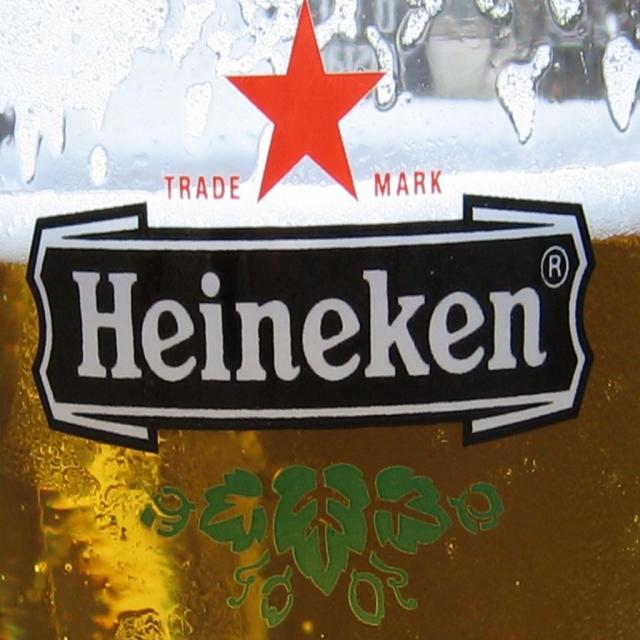heineken: (15, 2, 606, 458)
